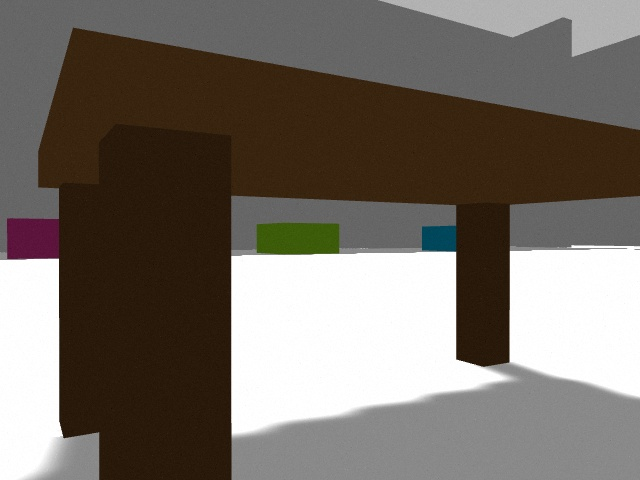blue_drop_zone: (422, 226, 456, 251)
green_drop_zone: (257, 223, 339, 254)
red_drop_zone: (7, 218, 59, 259)
